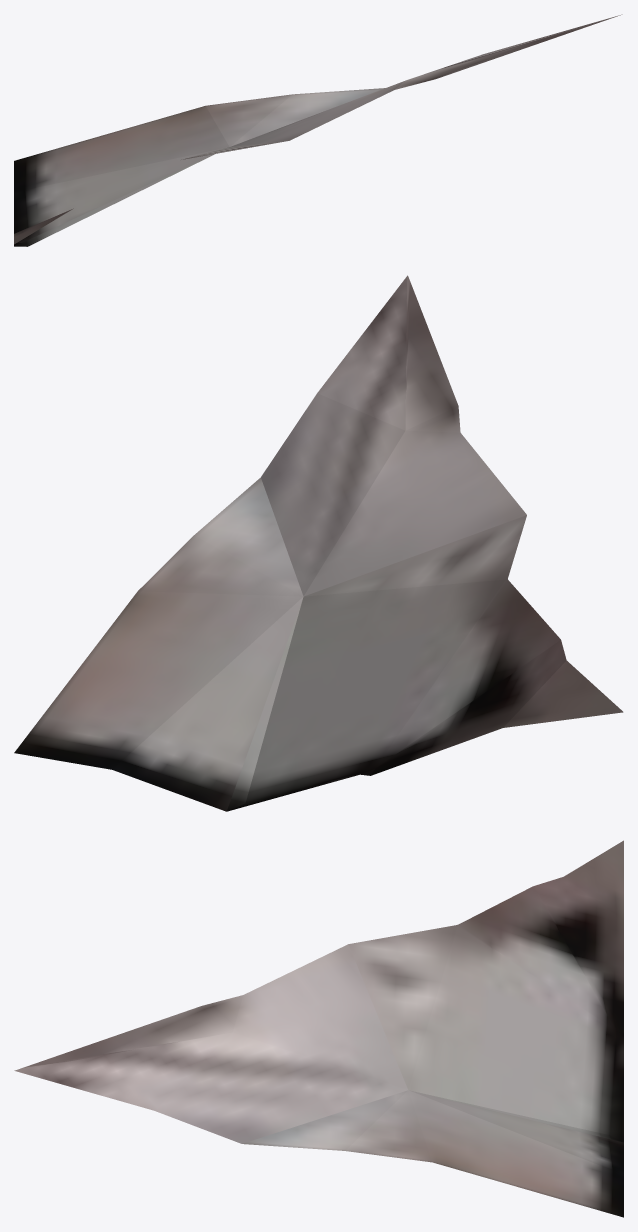
The picture shows the model from 3 angles, top to bottom: view 1: azimuth 90°, elevation 25°; view 2: azimuth 150°, elevation 25°; view 3: azimuth 270°, elevation 25°; orthographic projection. The views are drawn at different scales.
Bounding box in the file's own units: 1.29 × 0.3972 × 1.44.
1 material, 1 textured.
